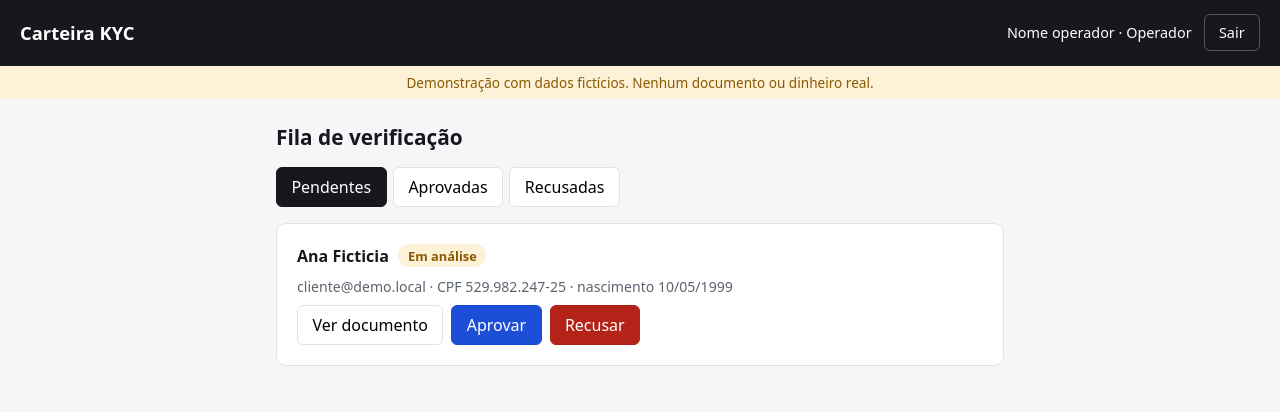
Test case: operador › pedido já decidido por outro operador mostra o conflito
The width and height of the screenshot is (1280, 412).
Click the button "Aprovar": {"x": 496, "y": 325} top-left (451, 305), bottom-right (542, 345)
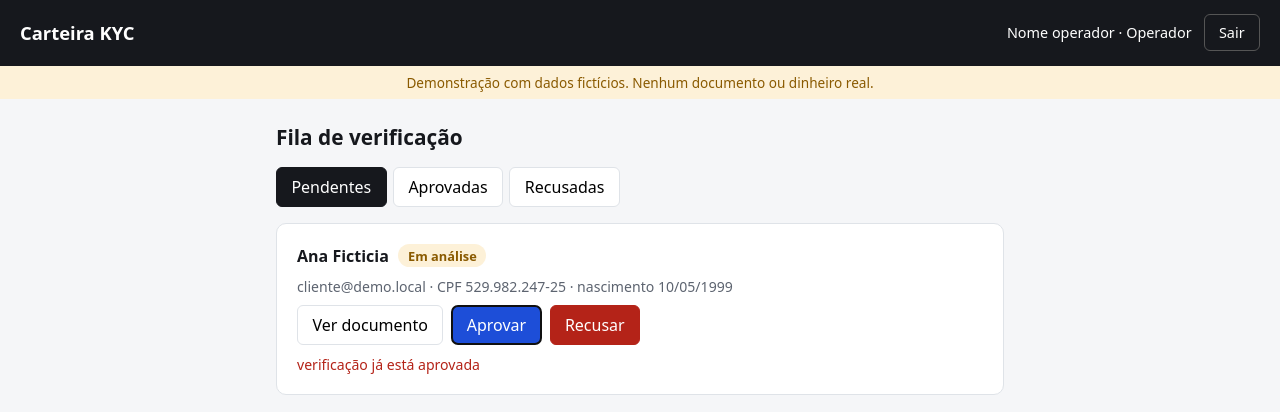
Check: the message reads "verificação já está aprovada", box top-left (297, 355), bottom-right (480, 374)
